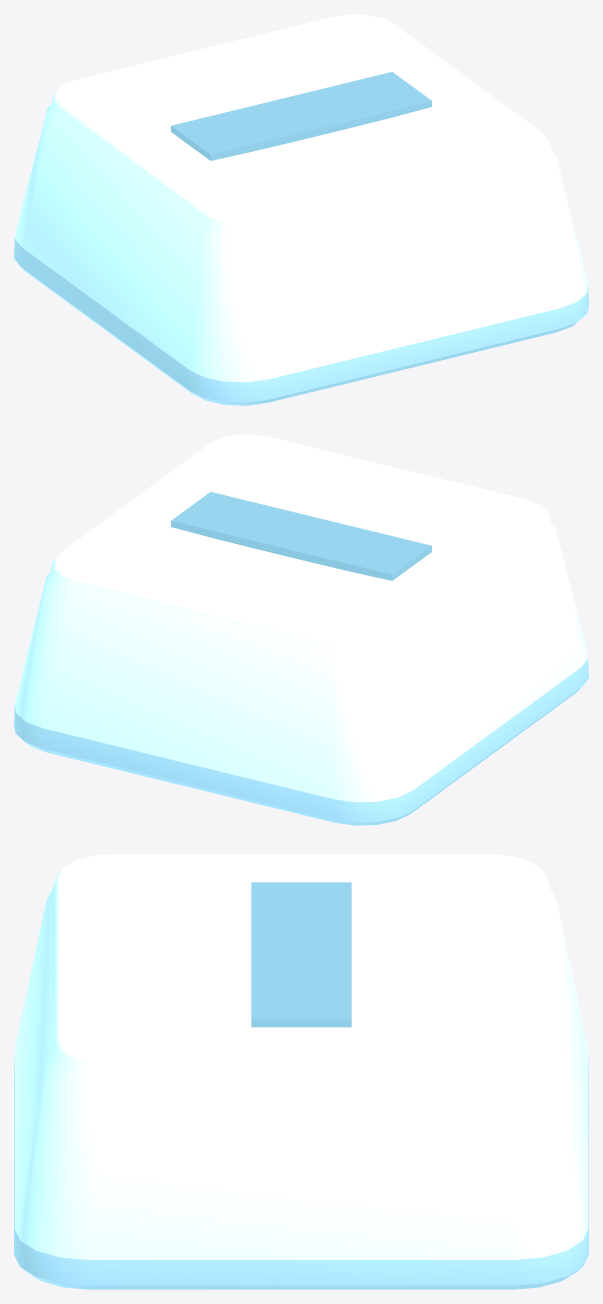
File: props__Key_I.glb
3 views of the same model, one above another, from view 1: azimuth 30°, elevation 25°; view 2: azimuth 150°, elevation 25°; view 3: azimuth 270°, elevation 25° (orthographic). The views are drawn at different scales.
Parts seen in each view (by area): view 1: Key_I; view 2: Key_I; view 3: Key_I.
Boxes of the visible parts, <box> form: Key_I: <box>14,14,588,405</box>; Key_I: <box>14,434,588,825</box>; Key_I: <box>14,854,588,1289</box>.
Size of the model in its own units: 3.9 by 1.65 by 3.9.
